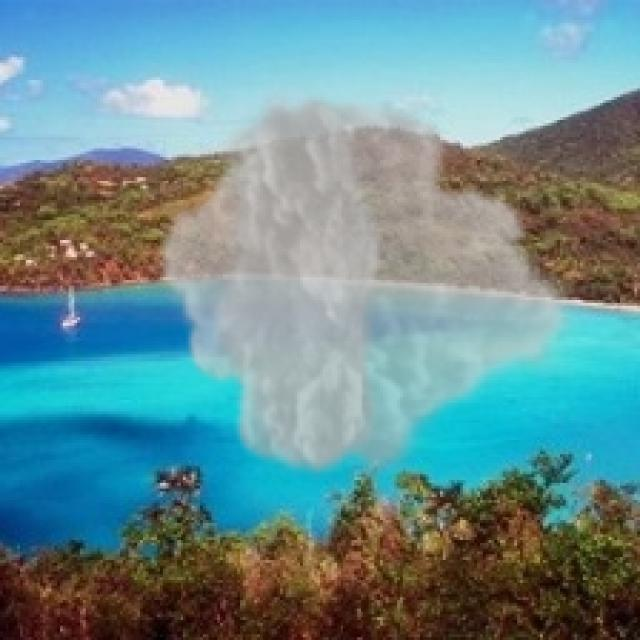smoke: (154, 86, 577, 486)
